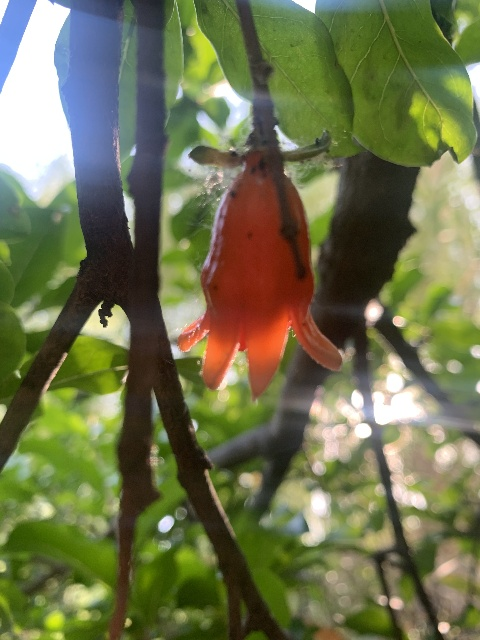flower: (178, 148, 342, 401)
